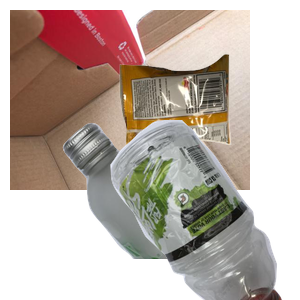cardboard: (10, 10, 250, 190)
glass: (60, 120, 300, 300)
plastic: (73, 120, 300, 300)
trash: (117, 52, 300, 193)
